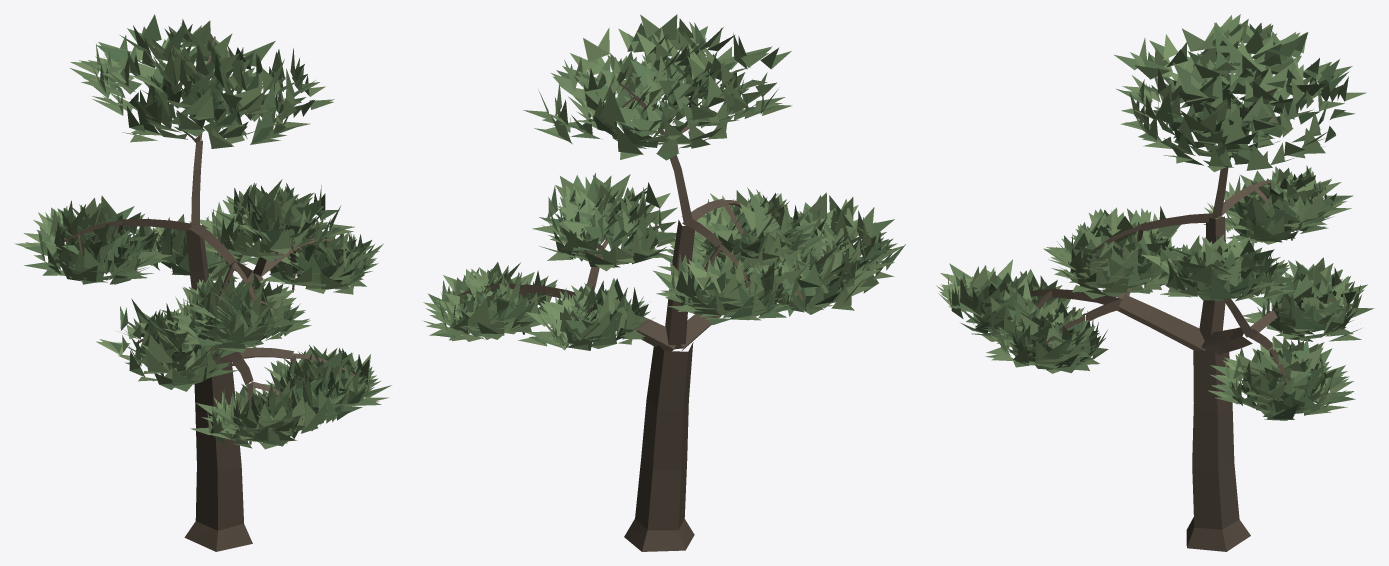
Rendered from hieda_pine_a.glb.
3 renders of one model, left to right at view 1: azimuth 30°, elevation 25°; view 2: azimuth 150°, elevation 25°; view 3: azimuth 270°, elevation 25°, orthographic. The views are drawn at different scales.
Parts seen in each view (by area): view 1: hieda_pine_a; view 2: hieda_pine_a; view 3: hieda_pine_a.
Part boxes in pixels (box(x1,y1,x2,y2)): hieda_pine_a: box(14, 14, 391, 551); hieda_pine_a: box(423, 14, 905, 551); hieda_pine_a: box(936, 14, 1373, 551).
Bounding box in the file's own units: 5.03 × 6.92 × 5.61.
